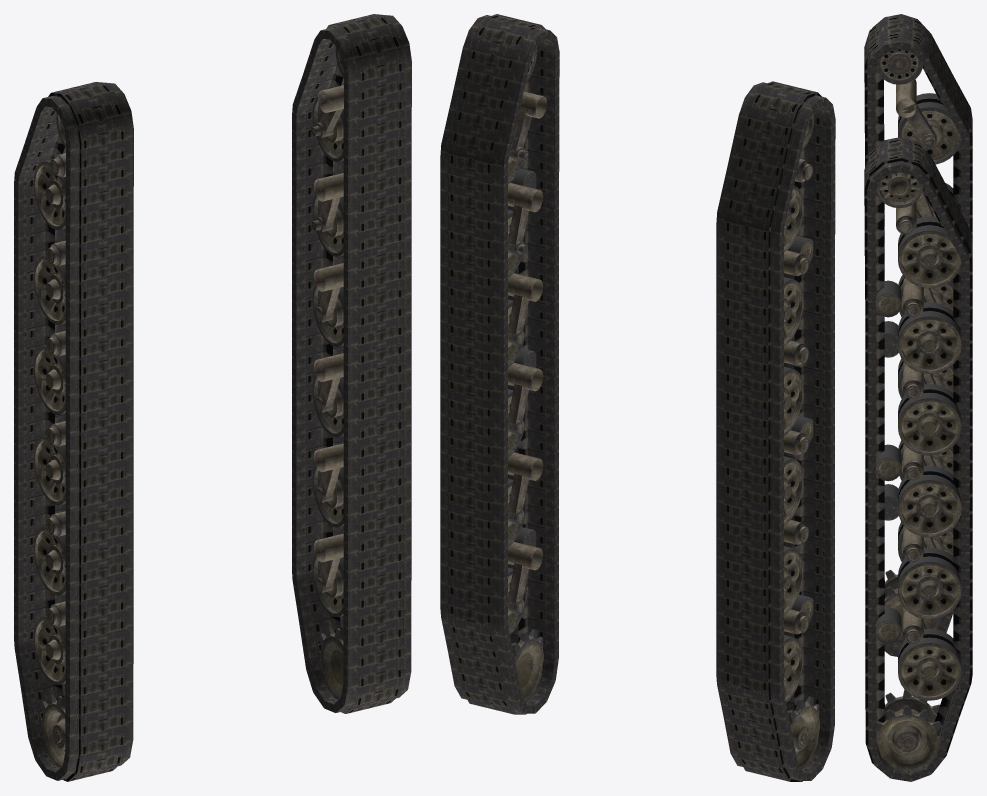
File: Chassis.glb
3 views of the same model, side by side, from view 1: azimuth 30°, elevation 25°; view 2: azimuth 150°, elevation 25°; view 3: azimuth 270°, elevation 25° (orthographic). The views are drawn at different scales.
Visible parts, largest first — view 1: set_1_group_0, set_0_group_0, set_3_group_0, set_2_group_0; view 2: set_1_group_0, set_0_group_0, set_3_group_0, set_2_group_0; view 3: set_3_group_0, set_0_group_0, set_2_group_0, set_1_group_0.
Boxes of the visible parts, x1,y1,x2,y2 form: set_1_group_0: (14, 82, 133, 781); set_0_group_0: (292, 14, 411, 713); set_3_group_0: (311, 46, 352, 709); set_2_group_0: (33, 113, 65, 767); set_1_group_0: (716, 81, 835, 781); set_0_group_0: (440, 14, 559, 714); set_3_group_0: (507, 47, 546, 712); set_2_group_0: (784, 114, 819, 769); set_3_group_0: (876, 172, 961, 769); set_0_group_0: (864, 137, 972, 781); set_2_group_0: (876, 49, 960, 645); set_1_group_0: (864, 14, 972, 656).
Size of the model in its own units: 3.76 by 7.23 by 1.14.
4 materials, 4 textured.
